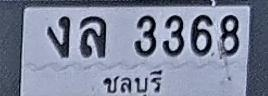3: (134, 14, 156, 56), (163, 14, 184, 56)
6: (191, 14, 212, 55)
8: (219, 14, 239, 56)
A07: (47, 15, 70, 57)
A36: (80, 15, 106, 57)
CBI: (99, 69, 169, 96)
